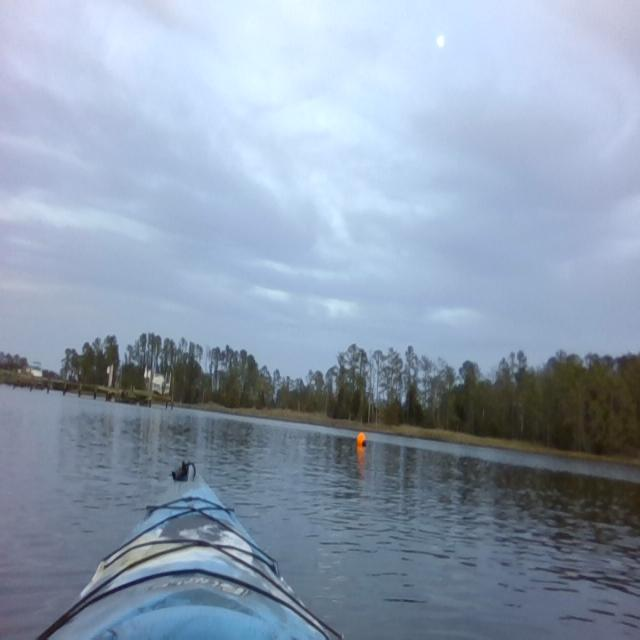Buoy: (356, 428, 368, 449)
